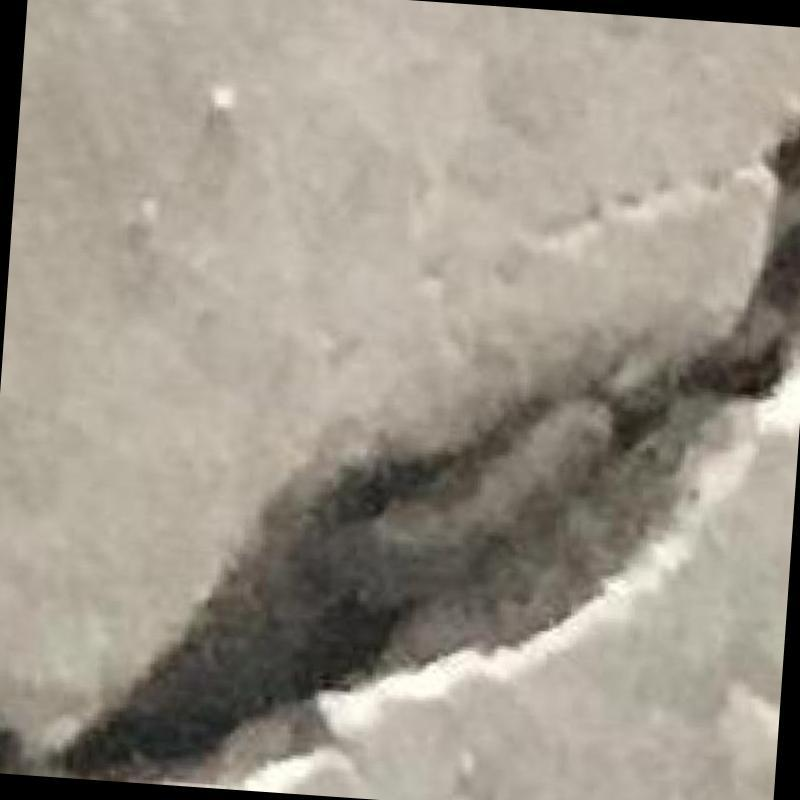pothole: (45, 117, 800, 781)
